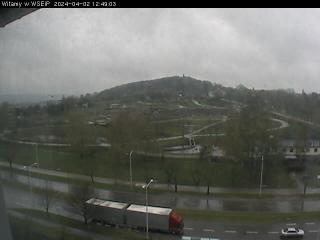car: (82, 196, 185, 236), (280, 225, 306, 238)
